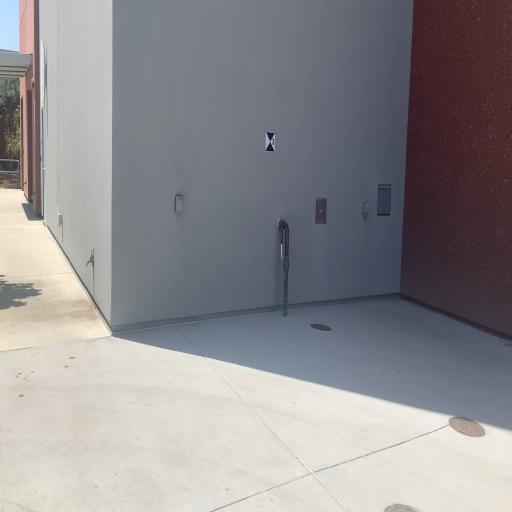target3: (265, 131, 275, 152)
